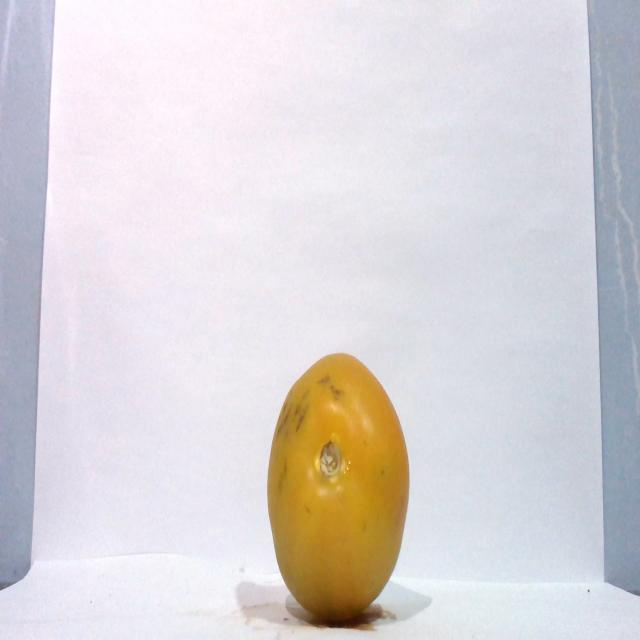Red: (265, 351, 410, 622)
